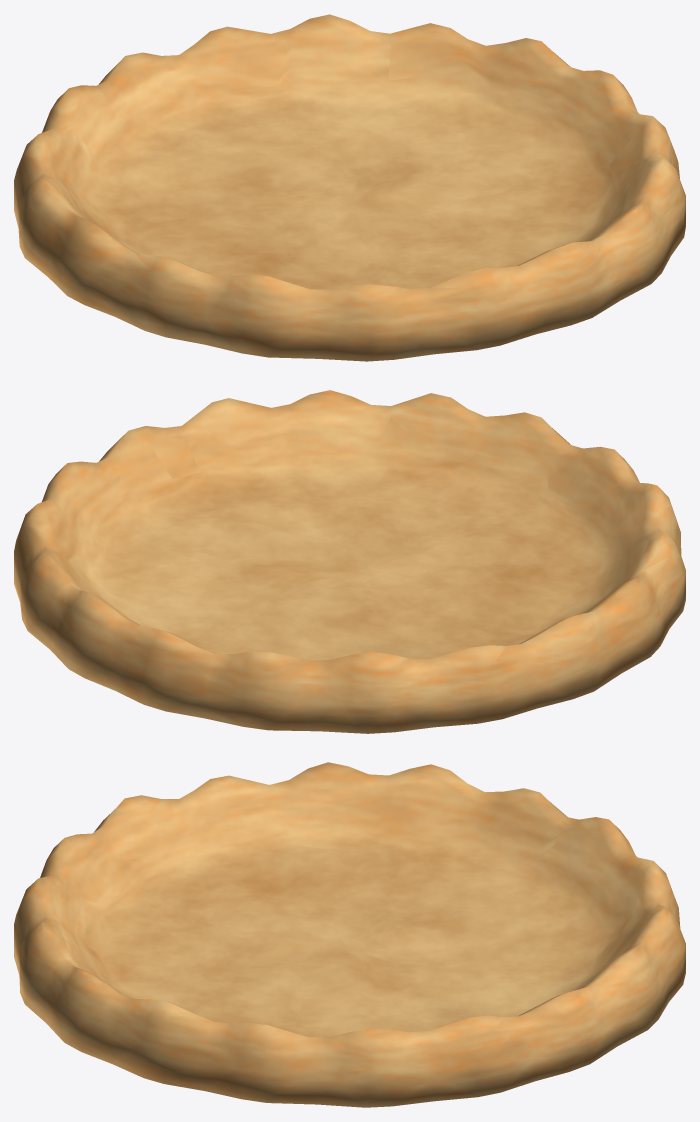
Rendered from pizza_crust.glb.
3 views of the same model, one above another, from view 1: azimuth 30°, elevation 25°; view 2: azimuth 150°, elevation 25°; view 3: azimuth 270°, elevation 25° (orthographic).
Parts seen in each view (by area): view 1: pizza_crust; view 2: pizza_crust; view 3: pizza_crust.
Boxes of the visible parts, x1,y1,x2,y2 form: pizza_crust: (14,14,685,361); pizza_crust: (14,390,685,733); pizza_crust: (14,762,685,1107).
Size of what is drawn, in the model's own units: 0.9747 by 0.1154 by 0.9728.
1 material, 1 textured.
